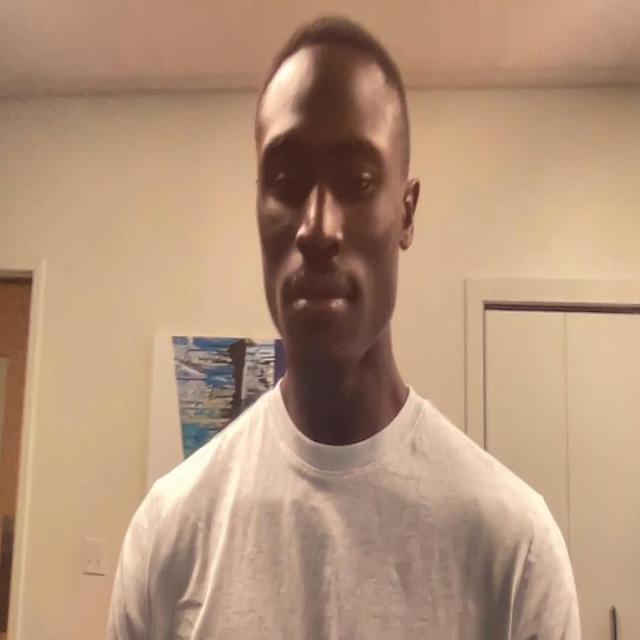face: (255, 68, 414, 384)
